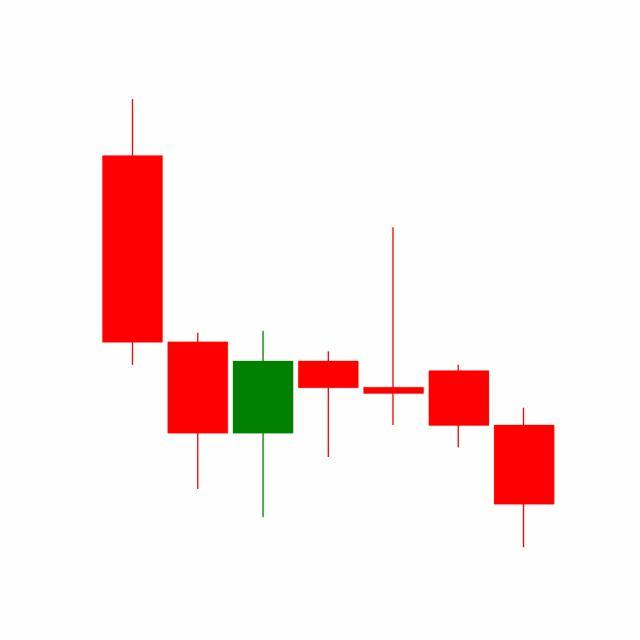Hikkake Pattern: (229, 224, 555, 549)
